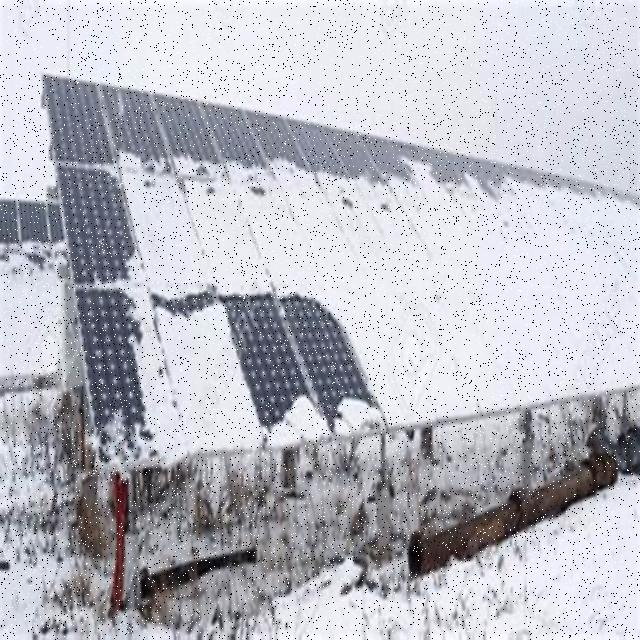bird drop: (122, 169, 268, 470)
snow covered: (190, 182, 634, 424)
